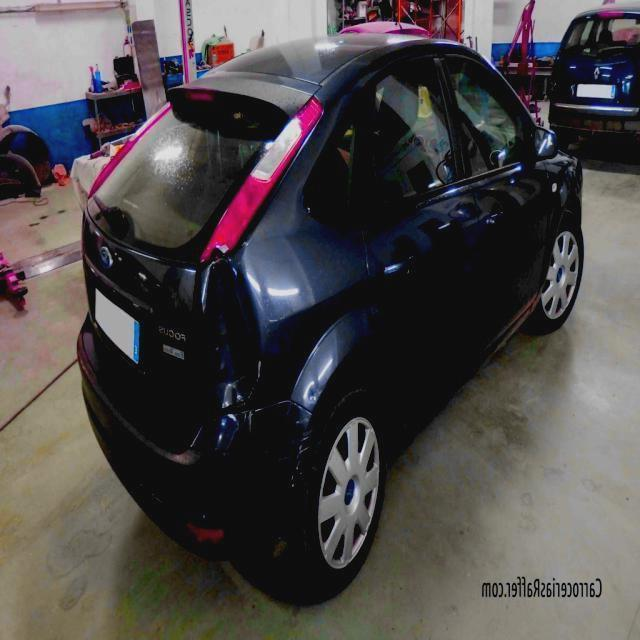minor: (192, 256, 261, 412)
